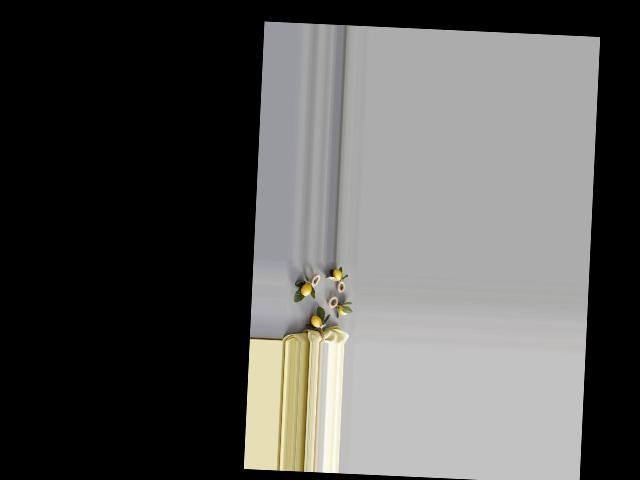lemon: (329, 265, 342, 282)
